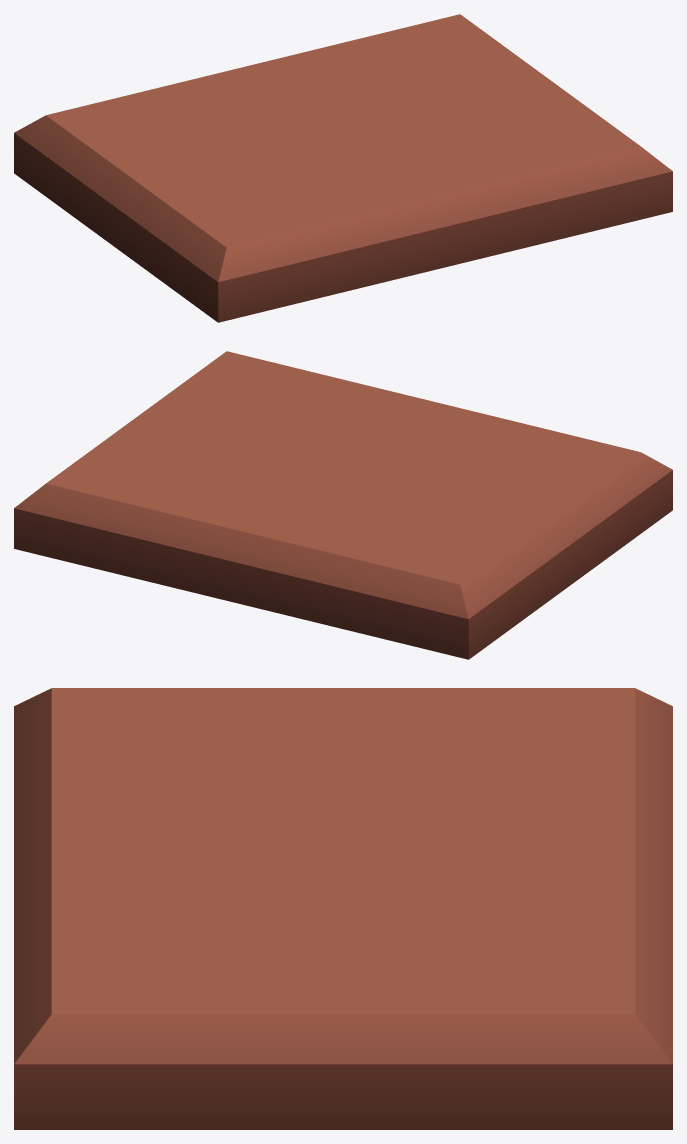
Rendered from copper-plate.glb.
The picture shows the model from 3 angles, top to bottom: view 1: azimuth 30°, elevation 25°; view 2: azimuth 150°, elevation 25°; view 3: azimuth 270°, elevation 25°; orthographic projection. The views are drawn at different scales.
Parts seen in each view (by area): view 1: copper-plate; view 2: copper-plate; view 3: copper-plate.
Part boxes in pixels (x1,y1,x2,y2): copper-plate: (14,14,672,322); copper-plate: (14,351,672,659); copper-plate: (14,688,672,1129).
Bounding box in the file's own units: 0.27 × 0.035 × 0.21.
